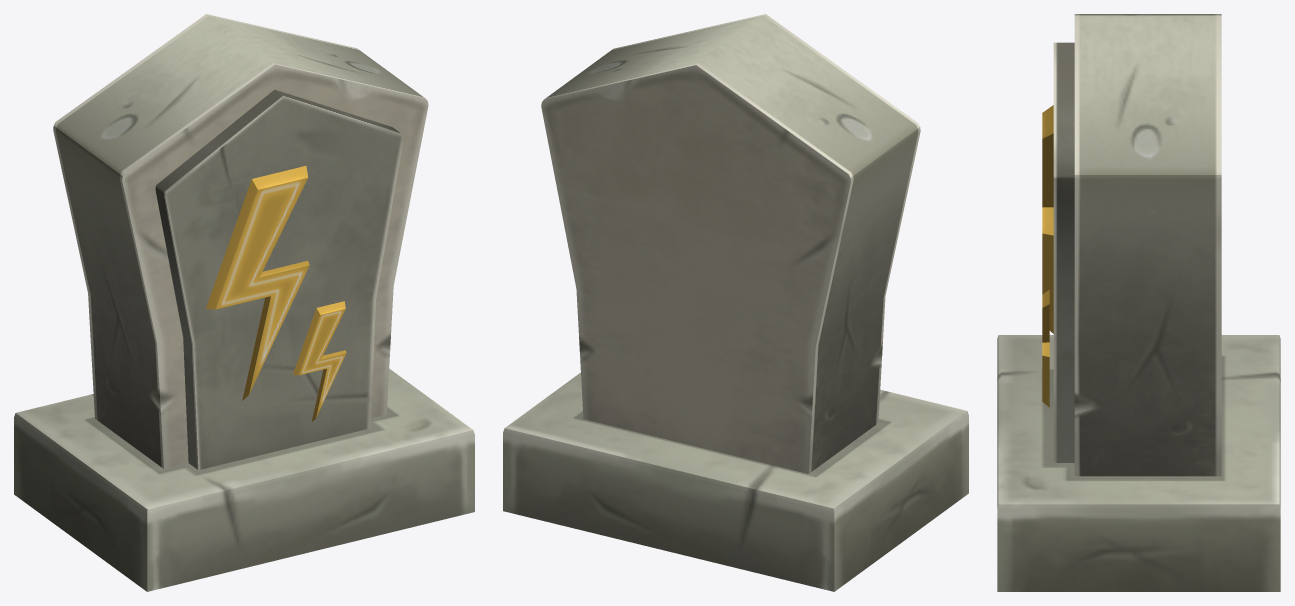
Rendered from Obstructing object (lightning).fbx.
The picture shows the model from 3 angles, left to right: view 1: azimuth 30°, elevation 25°; view 2: azimuth 150°, elevation 25°; view 3: azimuth 270°, elevation 25°; orthographic projection. The views are drawn at different scales.
Visible parts, largest first — view 1: Obstructing object (lightning); view 2: Obstructing object (lightning); view 3: Obstructing object (lightning).
Part boxes in pixels (left/top/right/bottom): Obstructing object (lightning): left=14, top=14, right=474, bottom=591; Obstructing object (lightning): left=503, top=14, right=968, bottom=591; Obstructing object (lightning): left=997, top=14, right=1280, bottom=591.
Size of the model in its own units: 1571 by 2110 by 1105.
